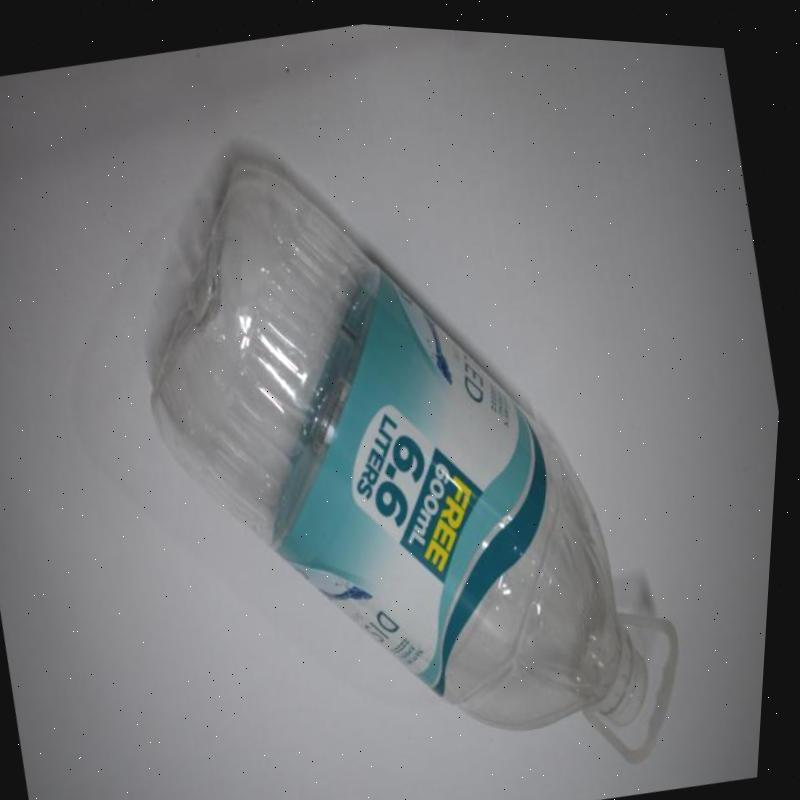botella: (93, 75, 693, 800)
